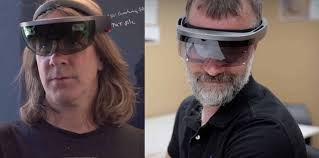hololens: (176, 14, 267, 68), (19, 14, 111, 56)
